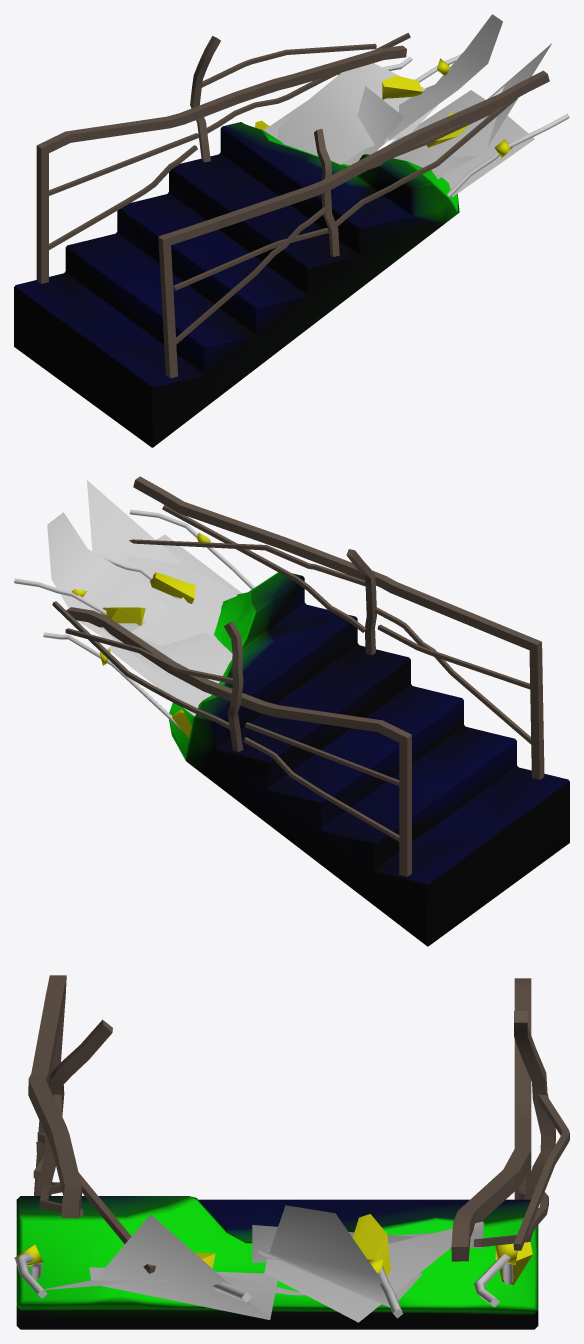
File: DBK_Stairs_Concrete_Short_Damage_Bottom.FBX
3 views of the same model, one above another, from view 1: azimuth 30°, elevation 25°; view 2: azimuth 150°, elevation 25°; view 3: azimuth 270°, elevation 25° (orthographic). The views are drawn at different scales.
Visible parts, largest first — view 1: DBK_Stairs_Concrete_Short_Damage_Bottom, DBK_Stairs_Concrete_Short_Damage_Bottom_Rebar, DBK_Stairs_Concrete_Short_Damage_Bottom_Rail_R, DBK_Stairs_Concrete_Short_Damage_Bottom_Rail_L; view 2: DBK_Stairs_Concrete_Short_Damage_Bottom, DBK_Stairs_Concrete_Short_Damage_Bottom_Rebar, DBK_Stairs_Concrete_Short_Damage_Bottom_Rail_R, DBK_Stairs_Concrete_Short_Damage_Bottom_Rail_L; view 3: DBK_Stairs_Concrete_Short_Damage_Bottom, DBK_Stairs_Concrete_Short_Damage_Bottom_Rebar, DBK_Stairs_Concrete_Short_Damage_Bottom_Rail_L, DBK_Stairs_Concrete_Short_Damage_Bottom_Rail_R.
Part boxes in pixels (x1,y1,x2,y2): DBK_Stairs_Concrete_Short_Damage_Bottom: [14, 58, 512, 447]; DBK_Stairs_Concrete_Short_Damage_Bottom_Rebar: [263, 14, 569, 197]; DBK_Stairs_Concrete_Short_Damage_Bottom_Rail_R: [158, 70, 549, 378]; DBK_Stairs_Concrete_Short_Damage_Bottom_Rail_L: [36, 32, 410, 283]; DBK_Stairs_Concrete_Short_Damage_Bottom: [71, 532, 569, 946]; DBK_Stairs_Concrete_Short_Damage_Bottom_Rebar: [14, 480, 254, 732]; DBK_Stairs_Concrete_Short_Damage_Bottom_Rail_R: [129, 476, 544, 779]; DBK_Stairs_Concrete_Short_Damage_Bottom_Rail_L: [52, 601, 411, 876]; DBK_Stairs_Concrete_Short_Damage_Bottom: [14, 1196, 538, 1329]; DBK_Stairs_Concrete_Short_Damage_Bottom_Rebar: [15, 1205, 513, 1322]; DBK_Stairs_Concrete_Short_Damage_Bottom_Rail_L: [451, 978, 569, 1261]; DBK_Stairs_Concrete_Short_Damage_Bottom_Rail_R: [28, 975, 155, 1273].
Size of the model in its own units: 258 by 152 by 149.
